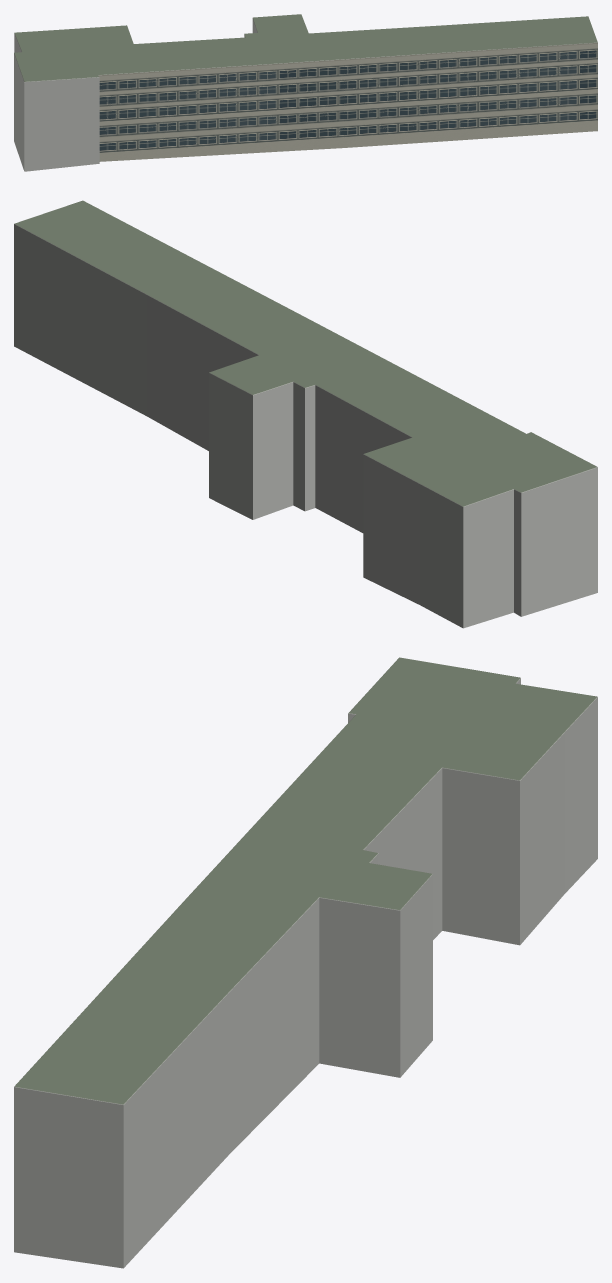
Rendered from fragments.glb.
3 renders of one model, top to bottom at view 1: azimuth 30°, elevation 25°; view 2: azimuth 150°, elevation 25°; view 3: azimuth 270°, elevation 25°, orthographic. The views are drawn at different scales.
Parts seen in each view (by area): view 1: SM_teachers_Fragment_029, SM_teachers_Fragment_024, SM_teachers_Fragment_011, SM_teachers_Fragment_030, SM_teachers_Fragment_062, SM_teachers_Fragment_010, SM_teachers_Fragment_046, SM_teachers_Fragment_060, SM_teachers_Fragment_044, SM_teachers_Fragment_051, SM_teachers_Fragment_035, SM_teachers_Fragment_043 (+31 smaller); view 2: SM_teachers_Fragment_048, SM_teachers_Fragment_005, SM_teachers_Fragment_032, SM_teachers_Fragment_017, SM_teachers_Fragment_039, SM_teachers_Fragment_042, SM_teachers_Fragment_007, SM_teachers_Fragment_059, SM_teachers_Fragment_036, SM_teachers_Fragment_028, SM_teachers_Fragment_040, SM_teachers_Fragment_006 (+29 smaller); view 3: SM_teachers_Fragment_015, SM_teachers_Fragment_025, SM_teachers_Fragment_040, SM_teachers_Fragment_018, SM_teachers_Fragment_014, SM_teachers_Fragment_050, SM_teachers_Fragment_017, SM_teachers_Fragment_007, SM_teachers_Fragment_059, SM_teachers_Fragment_006, SM_teachers_Fragment_026, SM_teachers_Fragment_031 (+29 smaller).
Part boxes in pixels (x1,y1,x2,y2): SM_teachers_Fragment_029: (518, 26, 597, 79); SM_teachers_Fragment_024: (323, 61, 390, 132); SM_teachers_Fragment_011: (357, 38, 426, 98); SM_teachers_Fragment_030: (162, 93, 225, 156); SM_teachers_Fragment_062: (271, 42, 357, 101); SM_teachers_Fragment_010: (17, 93, 84, 149); SM_teachers_Fragment_046: (418, 43, 478, 105); SM_teachers_Fragment_060: (212, 87, 271, 154); SM_teachers_Fragment_044: (449, 32, 520, 87); SM_teachers_Fragment_051: (111, 57, 170, 119); SM_teachers_Fragment_035: (246, 55, 316, 117); SM_teachers_Fragment_043: (19, 59, 91, 105); SM_teachers_Fragment_048: (217, 376, 311, 496); SM_teachers_Fragment_005: (423, 488, 511, 592); SM_teachers_Fragment_032: (474, 472, 563, 552); SM_teachers_Fragment_017: (120, 274, 211, 353); SM_teachers_Fragment_039: (459, 547, 545, 628); SM_teachers_Fragment_042: (255, 356, 350, 441); SM_teachers_Fragment_007: (363, 482, 425, 573); SM_teachers_Fragment_059: (181, 304, 294, 373); SM_teachers_Fragment_036: (152, 343, 206, 440); SM_teachers_Fragment_028: (31, 236, 79, 341); SM_teachers_Fragment_040: (363, 424, 460, 483); SM_teachers_Fragment_006: (67, 239, 145, 296); SM_teachers_Fragment_015: (14, 1069, 147, 1184); SM_teachers_Fragment_025: (302, 885, 409, 1029); SM_teachers_Fragment_040: (390, 734, 551, 840); SM_teachers_Fragment_018: (27, 1175, 151, 1268); SM_teachers_Fragment_014: (311, 985, 432, 1077); SM_teachers_Fragment_050: (433, 855, 544, 945); SM_teachers_Fragment_017: (151, 957, 258, 1057); SM_teachers_Fragment_007: (473, 758, 568, 897); SM_teachers_Fragment_059: (181, 906, 300, 1004); SM_teachers_Fragment_006: (79, 1006, 207, 1080); SM_teachers_Fragment_026: (360, 765, 433, 870); SM_teachers_Fragment_031: (445, 700, 572, 787).
Size of the model in its own units: 2.2 by 0.3854 by 1.21.
Materials: 4 (1 with a texture image).
